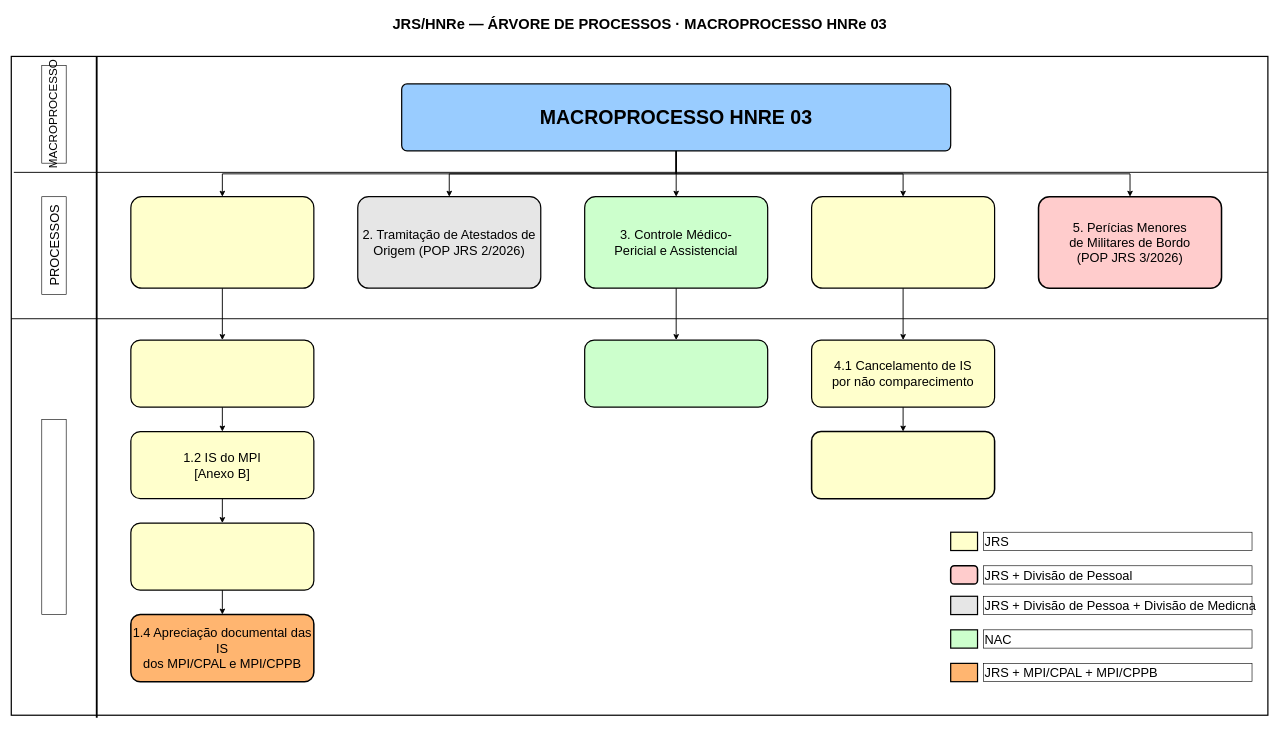
The diagram is 1279 pixels wide and 730 high, and some of its shapes have lost their labels. Each missing label, with the box of its shape:
1. Realização de Inspeções de Saúde (IS): (130, 196, 314, 289)
1.1 IS da JRS — rotina [Anexo A]: (130, 339, 314, 407)
1.3 IS do MPIQ [Anexo C]: (130, 522, 314, 590)
3.1 Acompanhamento de LTS e Restrições Militares HNRe: (584, 339, 768, 407)
4. Agendamento e controle de prazos: (811, 196, 995, 289)
4.2 MSG de IS de Ingresso (POP JRS 1/2026): (811, 431, 995, 499)
SUBPROCESSOS / ATIVIDADES: (41, 419, 66, 615)
